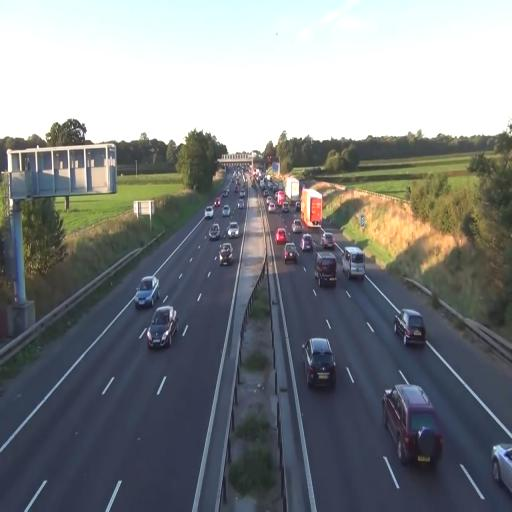vehicle: (382, 382, 444, 467), (304, 337, 336, 390), (146, 306, 178, 350), (301, 186, 323, 246), (394, 308, 426, 348), (491, 441, 512, 495), (314, 251, 338, 288), (136, 276, 160, 310), (342, 244, 364, 278), (346, 248, 366, 280), (217, 242, 234, 266), (283, 243, 299, 264), (274, 226, 288, 250), (300, 234, 314, 252), (208, 222, 221, 240), (322, 232, 335, 250), (226, 222, 240, 238), (204, 206, 214, 218)
